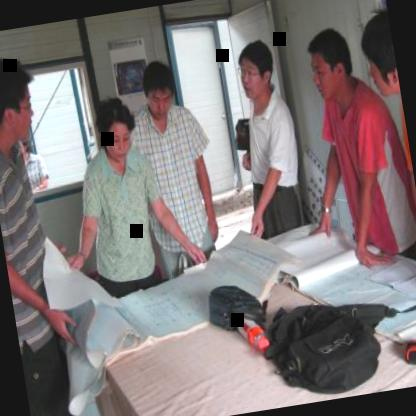head: (356, 3, 404, 117), (302, 19, 359, 113), (0, 49, 45, 157), (230, 32, 282, 112), (89, 94, 140, 166), (137, 56, 180, 128)
